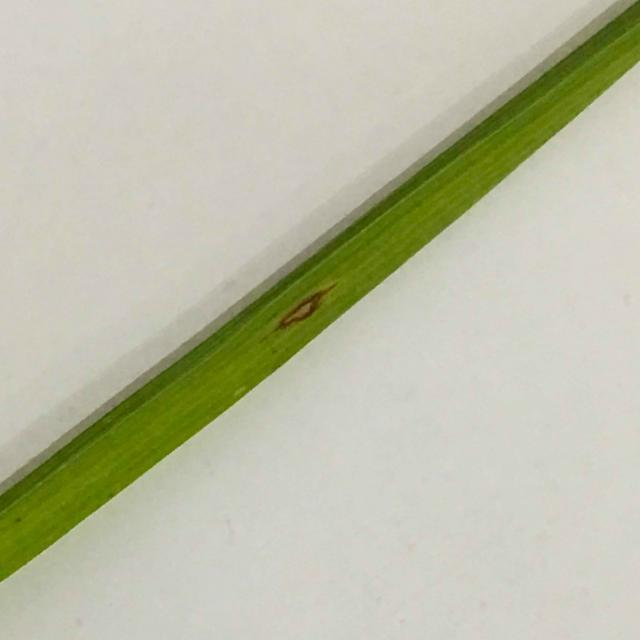Blast: (281, 282, 330, 328)
